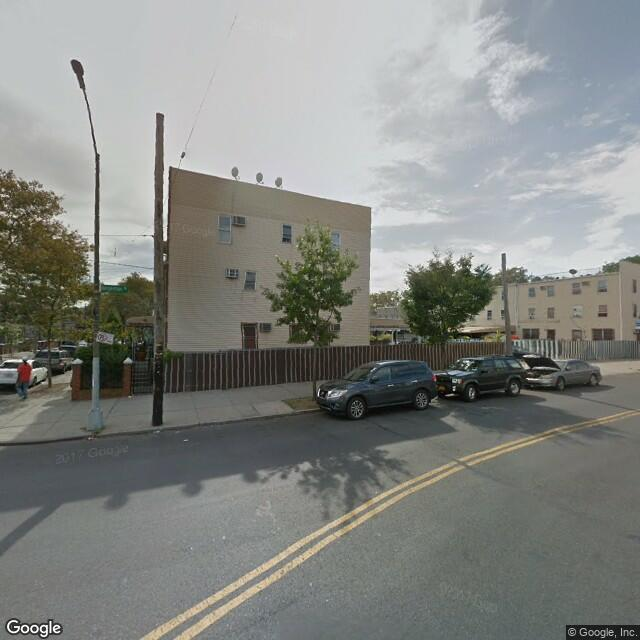litter: (84, 434, 215, 455)
